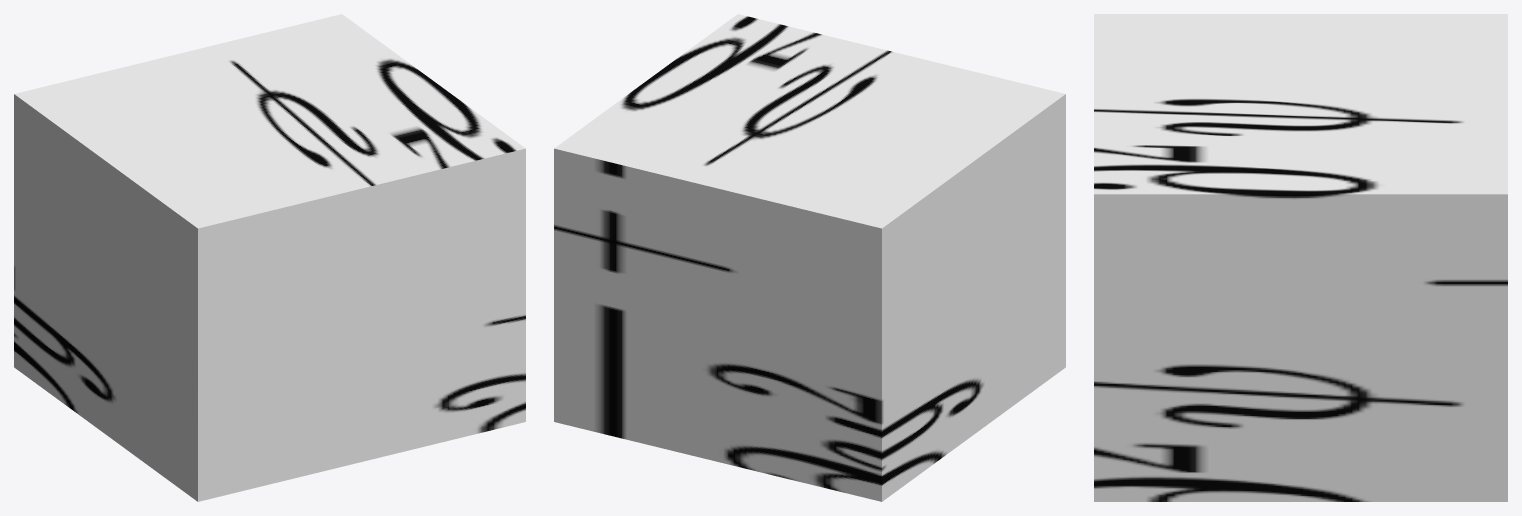
The model's file is bloc.glb.
3 renders of one model, left to right at view 1: azimuth 30°, elevation 25°; view 2: azimuth 150°, elevation 25°; view 3: azimuth 270°, elevation 25°, orthographic. The views are drawn at different scales.
Visible parts, largest first — view 1: Cube; view 2: Cube; view 3: Cube.
Boxes of the visible parts, bbox=[...] form: Cube: bbox=[14, 14, 525, 501]; Cube: bbox=[554, 14, 1065, 501]; Cube: bbox=[1094, 14, 1507, 501].
Size of the model in its own units: 2.82 by 2.25 by 2.74.
1 material, 1 textured.
